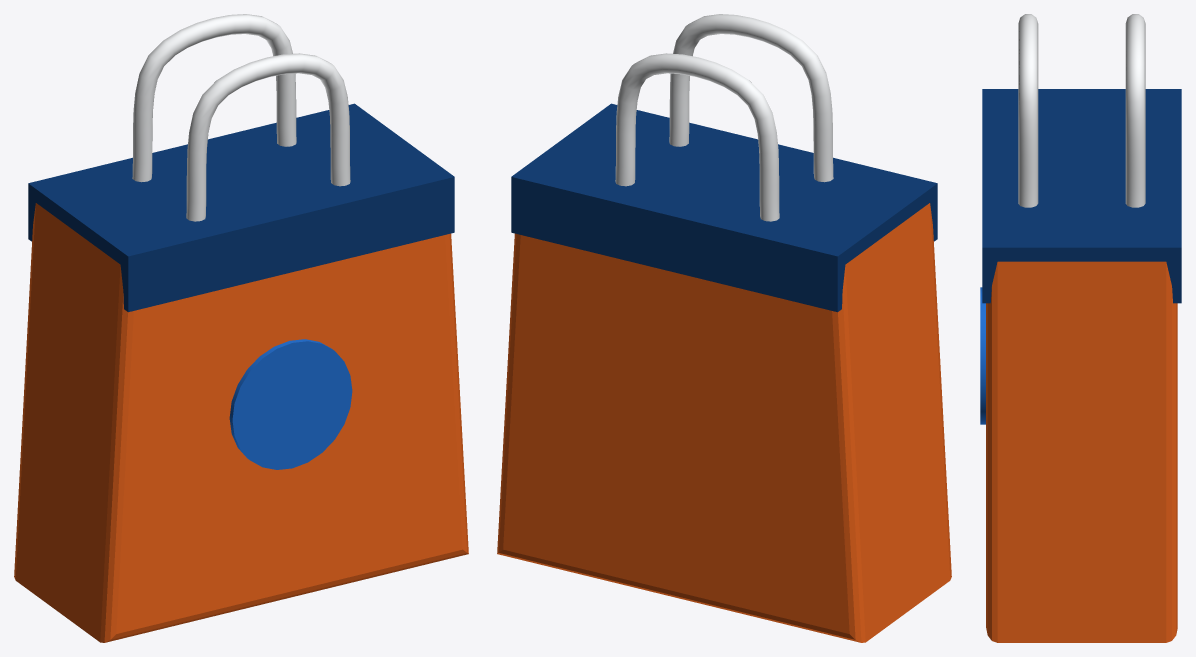
Rendered from shopping-bag.glb.
The picture shows the model from 3 angles, left to right: view 1: azimuth 30°, elevation 25°; view 2: azimuth 150°, elevation 25°; view 3: azimuth 270°, elevation 25°; orthographic projection.
Visible parts, largest first — view 1: ShoppingBag; view 2: ShoppingBag; view 3: ShoppingBag.
Boxes of the visible parts, x1=… form: ShoppingBag: x1=14, y1=14, x2=468, y2=642; ShoppingBag: x1=497, y1=14, x2=951, y2=642; ShoppingBag: x1=980, y1=14, x2=1181, y2=642.
Bounding box in the file's own units: 1.1 × 1.51 × 0.525.
